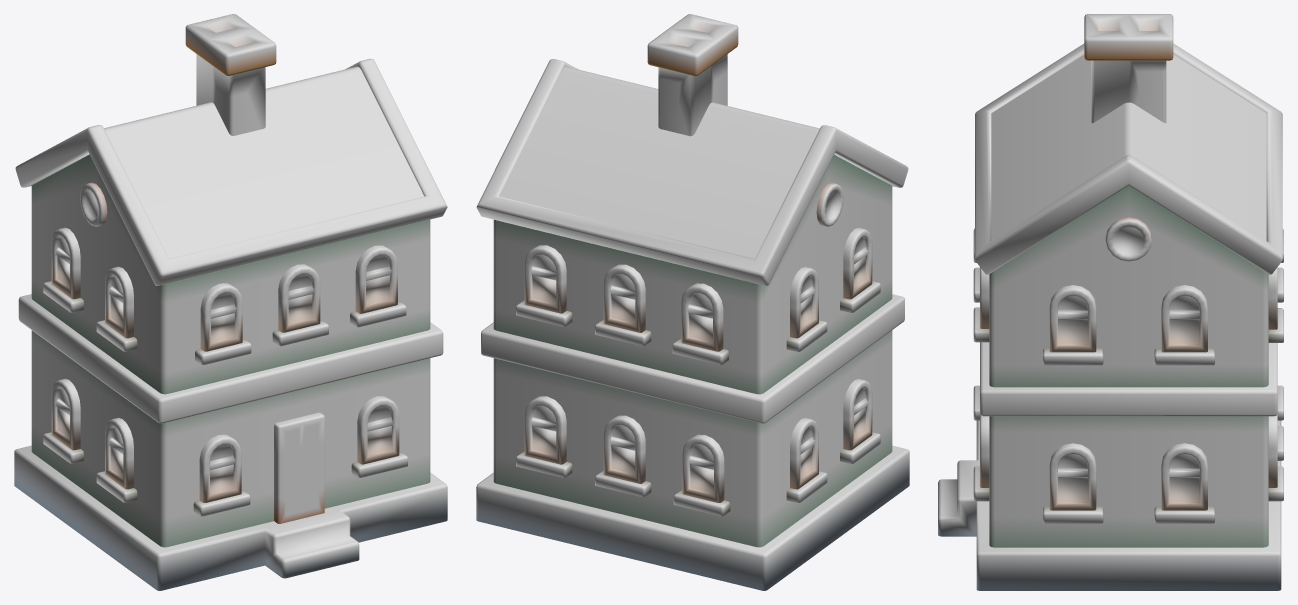
File: Building_041.fbx
3 views of the same model, side by side, from view 1: azimuth 30°, elevation 25°; view 2: azimuth 150°, elevation 25°; view 3: azimuth 270°, elevation 25° (orthographic). The views are drawn at different scales.
Parts seen in each view (by area): view 1: Building_041; view 2: Building_041; view 3: Building_041.
Boxes of the visible parts, x1=… form: Building_041: x1=14, y1=14, x2=447, y2=590; Building_041: x1=476, y1=14, x2=909, y2=590; Building_041: x1=938, y1=14, x2=1283, y2=590.
Size of the model in its own units: 766 by 743 by 1164.
